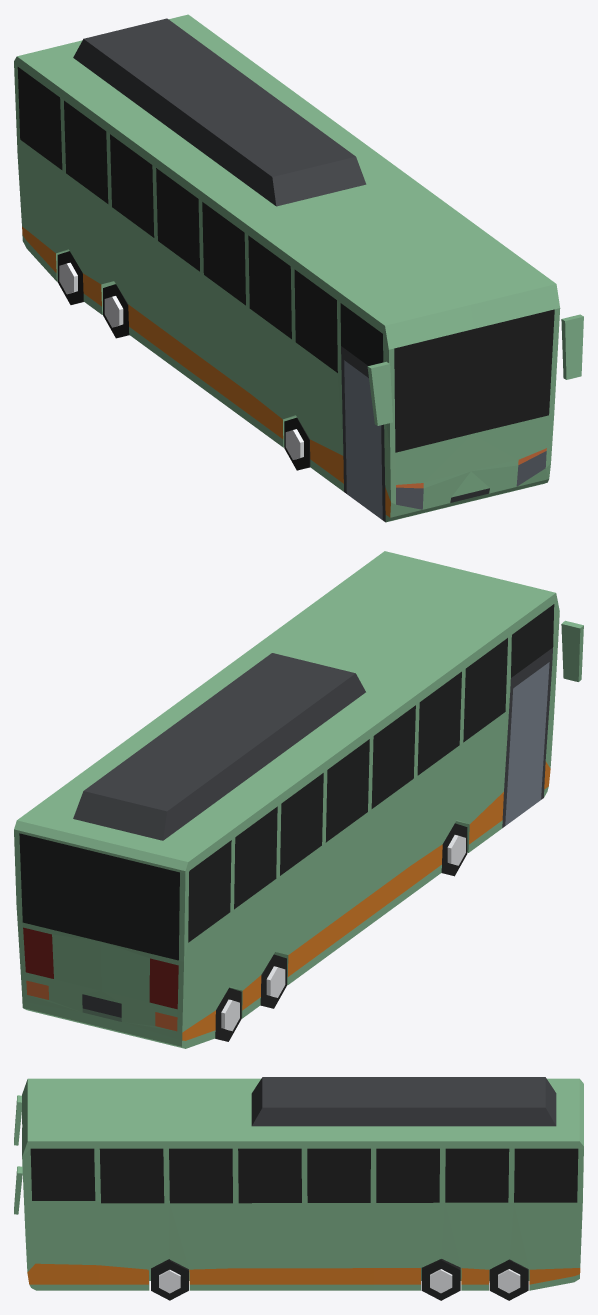
File: Vehicles_Passenger_Bus.fbx
3 renders of one model, top to bottom at view 1: azimuth 30°, elevation 25°; view 2: azimuth 150°, elevation 25°; view 3: azimuth 270°, elevation 25°, orthographic. The views are drawn at different scales.
Parts seen in each view (by area): view 1: Vehicles_Passenger_Bus; view 2: Vehicles_Passenger_Bus; view 3: Vehicles_Passenger_Bus.
Part boxes in pixels (box(x1,y1,x2,y2)): Vehicles_Passenger_Bus: box(14, 14, 583, 522); Vehicles_Passenger_Bus: box(14, 551, 583, 1048); Vehicles_Passenger_Bus: box(14, 1077, 583, 1300).
Bounding box in the file's own units: 296 × 318 × 916.
